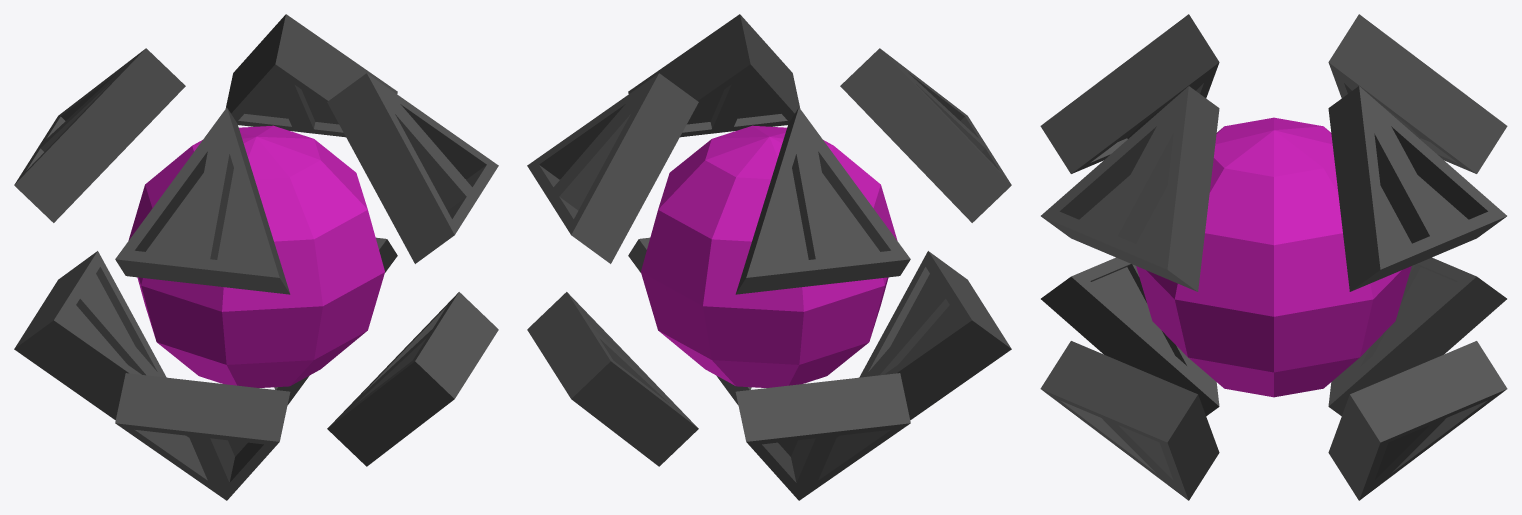
Rendered from Target.fbx.
The picture shows the model from 3 angles, left to right: view 1: azimuth 30°, elevation 25°; view 2: azimuth 150°, elevation 25°; view 3: azimuth 270°, elevation 25°; orthographic projection. The views are drawn at different scales.
Parts seen in each view (by area): view 1: Cube, Main; view 2: Cube, Main; view 3: Cube, Main.
Part boxes in pixels (box(x1,y1,x2,y2)): Cube: box(14, 14, 498, 500); Main: box(128, 125, 384, 387); Cube: box(527, 14, 1011, 500); Main: box(641, 125, 897, 387); Cube: box(1040, 14, 1507, 500); Main: box(1136, 117, 1411, 397).
Size of the model in its own units: 0.6889 by 0.6754 by 0.6889.
